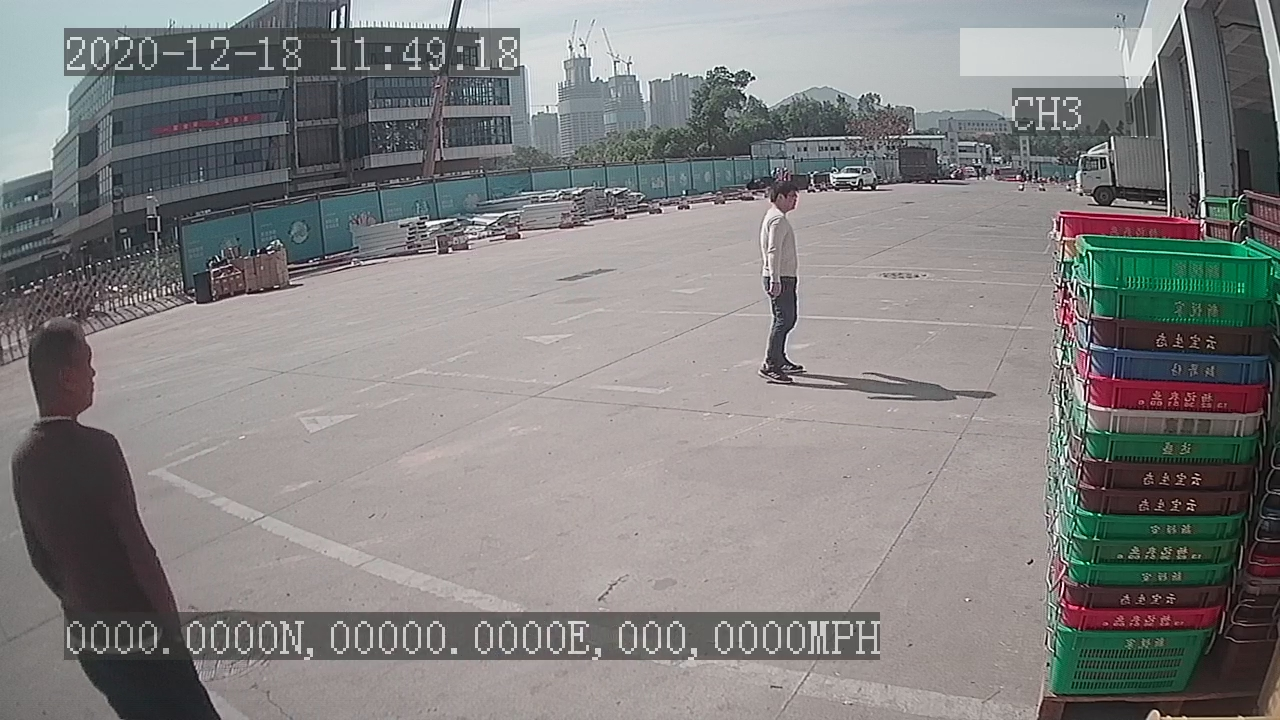person: (751, 179, 809, 390)
